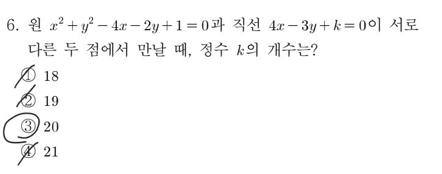1: (1, 112, 42, 144)
paper: (18, 65, 37, 84), (18, 90, 37, 109), (18, 115, 37, 134), (18, 141, 37, 160)
